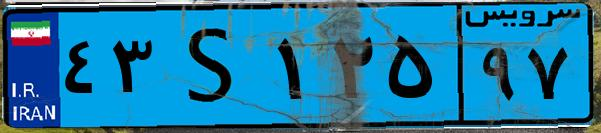1: (270, 28, 330, 110)
2: (330, 28, 385, 110)
3: (110, 28, 158, 98)
4: (57, 26, 110, 100)
5: (385, 28, 445, 110)
7: (525, 38, 570, 115)
9: (475, 38, 525, 113)
S: (158, 12, 270, 120)
